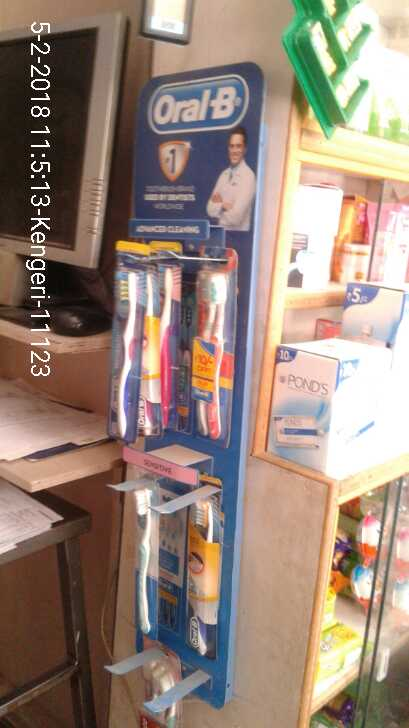oralb: (114, 249, 161, 442), (185, 249, 230, 437), (178, 498, 226, 658), (124, 473, 160, 643)
